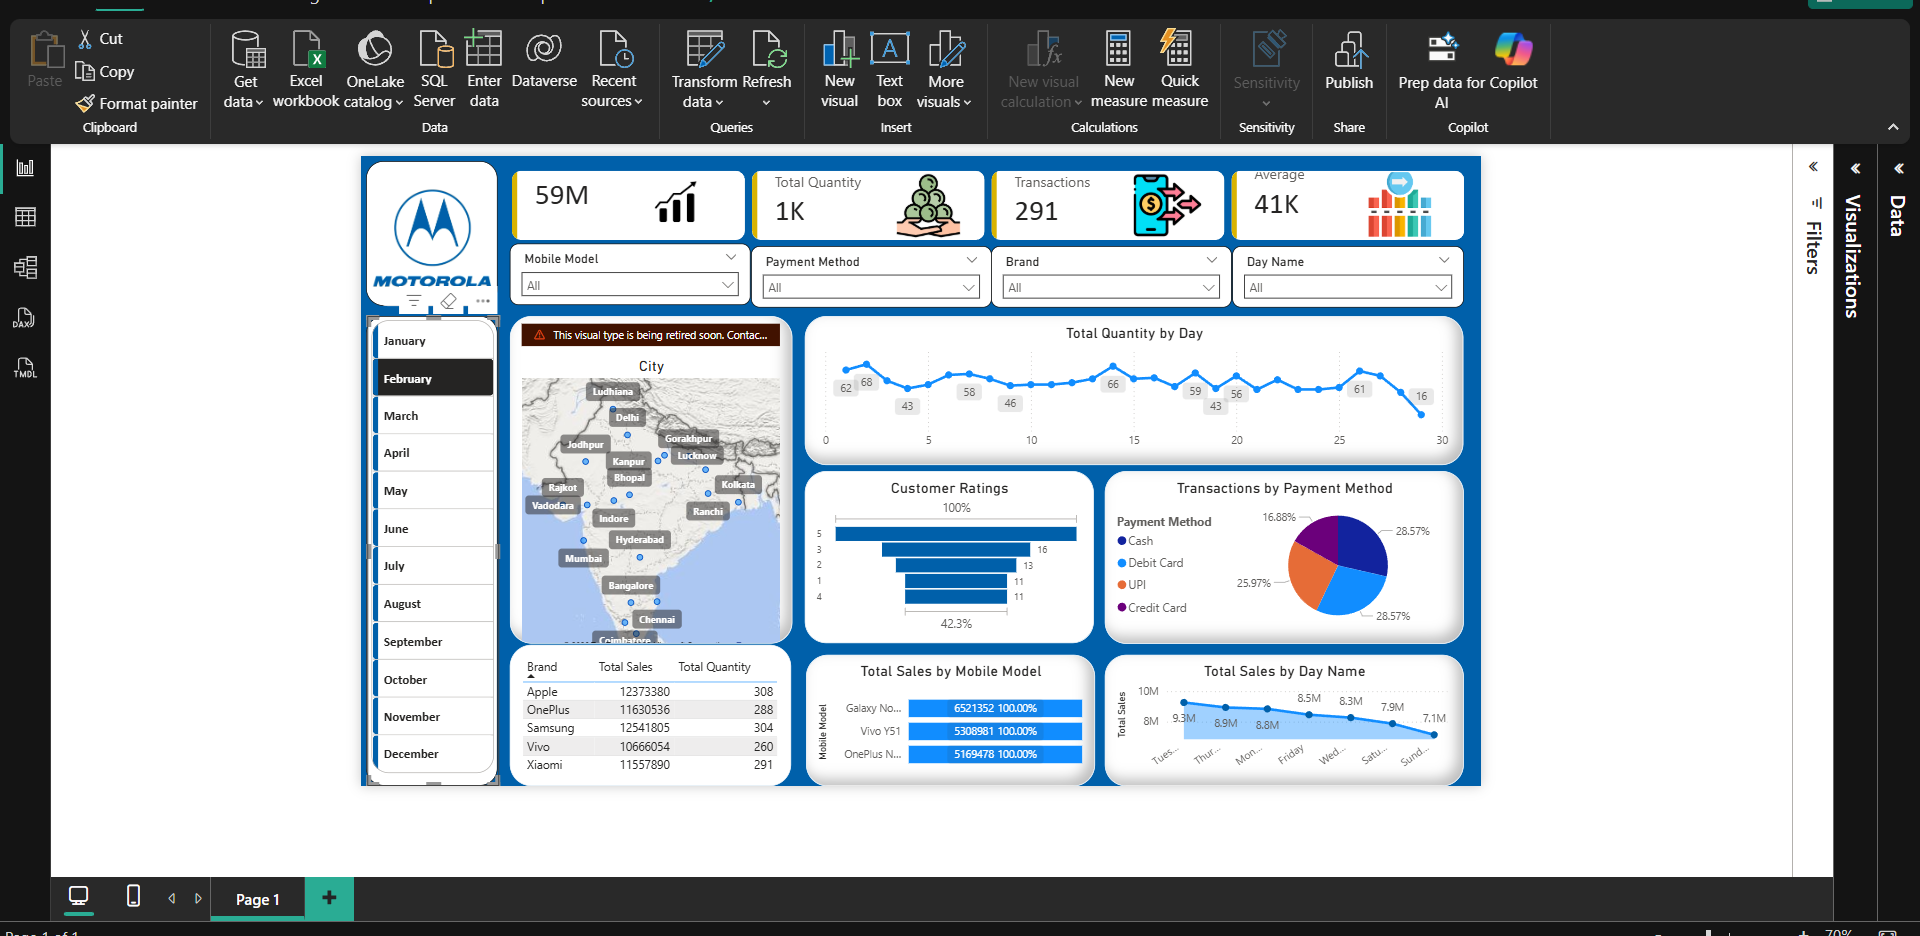

What the dashboard file says about the page in this screenshot:
{"tool":"powerbi","page":{"name":"Page 1","canvas":[1280,720],"ordinal":0},"visuals":[{"type":"shape","box":[5.7,5.7,150,165.7],"z":0},{"type":"image","box":[11.4,17.1,140,154.3],"z":1000},{"type":"shape","box":[5.7,182.9,150,537.1],"z":2000},{"type":"advancedSlicerVisual","fields":{"Values":["Sheet1.Date.Variation.Date Hierarchy.Month"]},"box":[7.1,182.9,150,537.1],"z":3000},{"type":"cardVisual","fields":{"Data":["Sheet1.Total Sales","Sheet1.Total Quantity","Sheet1.Transactions","Sheet1.Average"]},"box":[155.6,0,1122.2,113.3],"z":4000},{"type":"map","fields":{"Category":["Sheet1.City"]},"box":[170,182.9,322.9,374.3],"z":5000},{"type":"lineChart","fields":{"Y":["Sheet1.Total Quantity"],"Category":["Sheet1.Date.Variation.Date Hierarchy.Month","Sheet1.Date.Variation.Date Hierarchy.Day"]},"box":[507.5,182.5,752.5,170],"z":6000},{"type":"hundredPercentStackedBarChart","fields":{"Category":["Sheet1.Mobile Model"],"Y":["Sheet1.Total Sales"]},"box":[508.6,570,330,150],"z":7000},{"type":"pieChart","fields":{"Category":["Sheet1.Payment Method"],"Y":["Sheet1.Transactions"]},"box":[850,360,410,197.5],"z":8000},{"type":"funnel","title":"Customer Ratings ","fields":{"Category":["Sheet1.Customer Ratings"],"Y":["CountNonNull(Sheet1.Customer Ratings)"]},"box":[507.1,360,330,197.1],"z":9000},{"type":"areaChart","fields":{"Category":["Sheet1.Day Name"],"Y":["Sheet1.Total Sales"]},"box":[850,570,410,150],"z":10000},{"type":"tableEx","fields":{"Values":["Sheet1.Brand","Sheet1.Total Sales","Sheet1.Total Quantity"]},"box":[170,558.6,321.4,161.4],"z":11000},{"type":"slicer","fields":{"Values":["Sheet1.Mobile Model"]},"box":[170,100,275.6,70],"z":12000},{"type":"slicer","fields":{"Values":["Sheet1.Payment Method"]},"box":[445,102.5,275,70],"z":13000},{"type":"slicer","fields":{"Values":["Sheet1.Brand"]},"box":[720,102.5,275,70],"z":14000},{"type":"slicer","fields":{"Values":["Sheet1.Day Name"]},"box":[995,102.5,265,70],"z":15000}]}

Visuals, with their boxes on the page's 1280x720 design canvas (x1, y1, x2, y2). These are canvas units, not pixel positions in the 1920x936 screenshot, which may show the page scaled, cropped or inside an application window:
shape: BBox(6, 6, 156, 171)
image: BBox(11, 17, 151, 171)
shape: BBox(6, 183, 156, 720)
advancedSlicerVisual - Sheet1.Date.Variation.Date Hierarchy.Month: BBox(7, 183, 157, 720)
cardVisual - Sheet1.Total Sales x Sheet1.Total Quantity: BBox(156, 0, 1278, 113)
map - Sheet1.City: BBox(170, 183, 493, 557)
lineChart - Sheet1.Total Quantity x Sheet1.Date.Variation.Date Hierarchy.Month: BBox(508, 182, 1260, 352)
hundredPercentStackedBarChart - Sheet1.Mobile Model x Sheet1.Total Sales: BBox(509, 570, 839, 720)
pieChart - Sheet1.Payment Method x Sheet1.Transactions: BBox(850, 360, 1260, 558)
"Customer Ratings " funnel: BBox(507, 360, 837, 557)
areaChart - Sheet1.Day Name x Sheet1.Total Sales: BBox(850, 570, 1260, 720)
tableEx - Sheet1.Brand x Sheet1.Total Sales: BBox(170, 559, 491, 720)
slicer - Sheet1.Mobile Model: BBox(170, 100, 446, 170)
slicer - Sheet1.Payment Method: BBox(445, 102, 720, 172)
slicer - Sheet1.Brand: BBox(720, 102, 995, 172)
slicer - Sheet1.Day Name: BBox(995, 102, 1260, 172)
